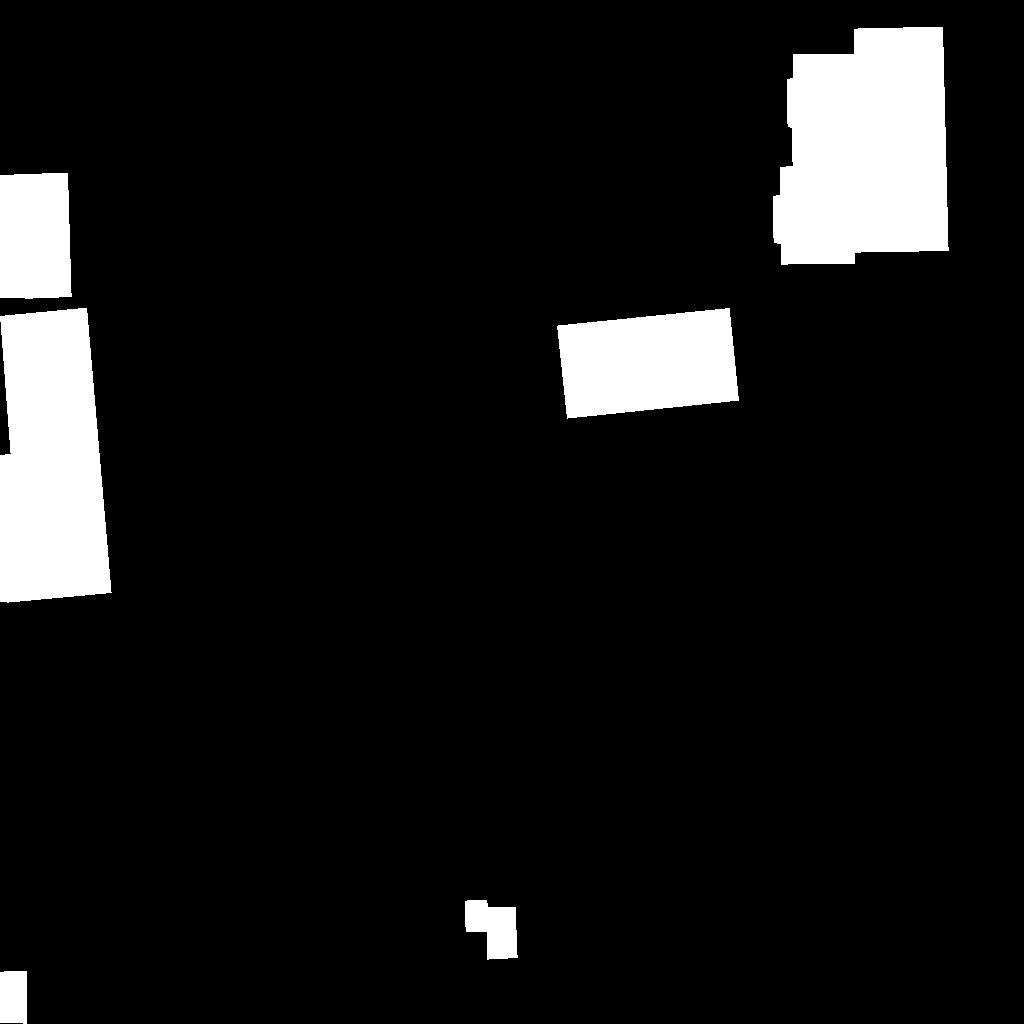building: (773, 27, 949, 265), (0, 308, 112, 603), (557, 308, 740, 419), (0, 173, 72, 299), (465, 900, 518, 960), (0, 971, 28, 1024)
